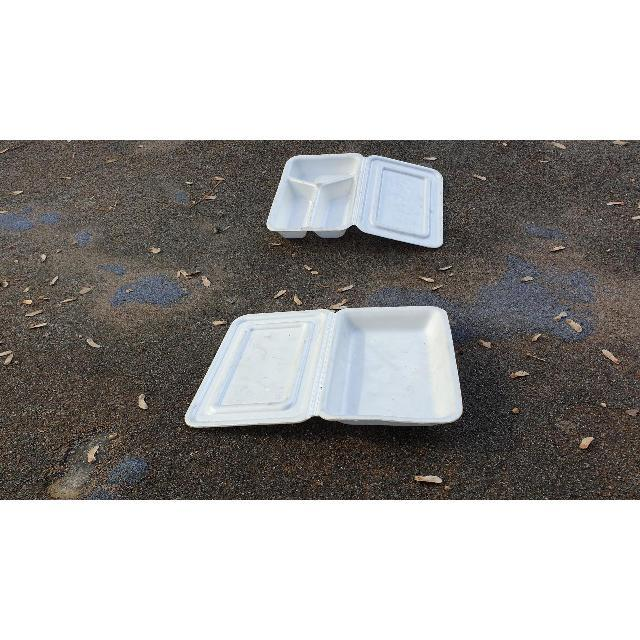Recipiente plastico: (185, 306, 462, 428), (266, 152, 442, 248), (268, 154, 362, 238), (358, 158, 442, 247)
